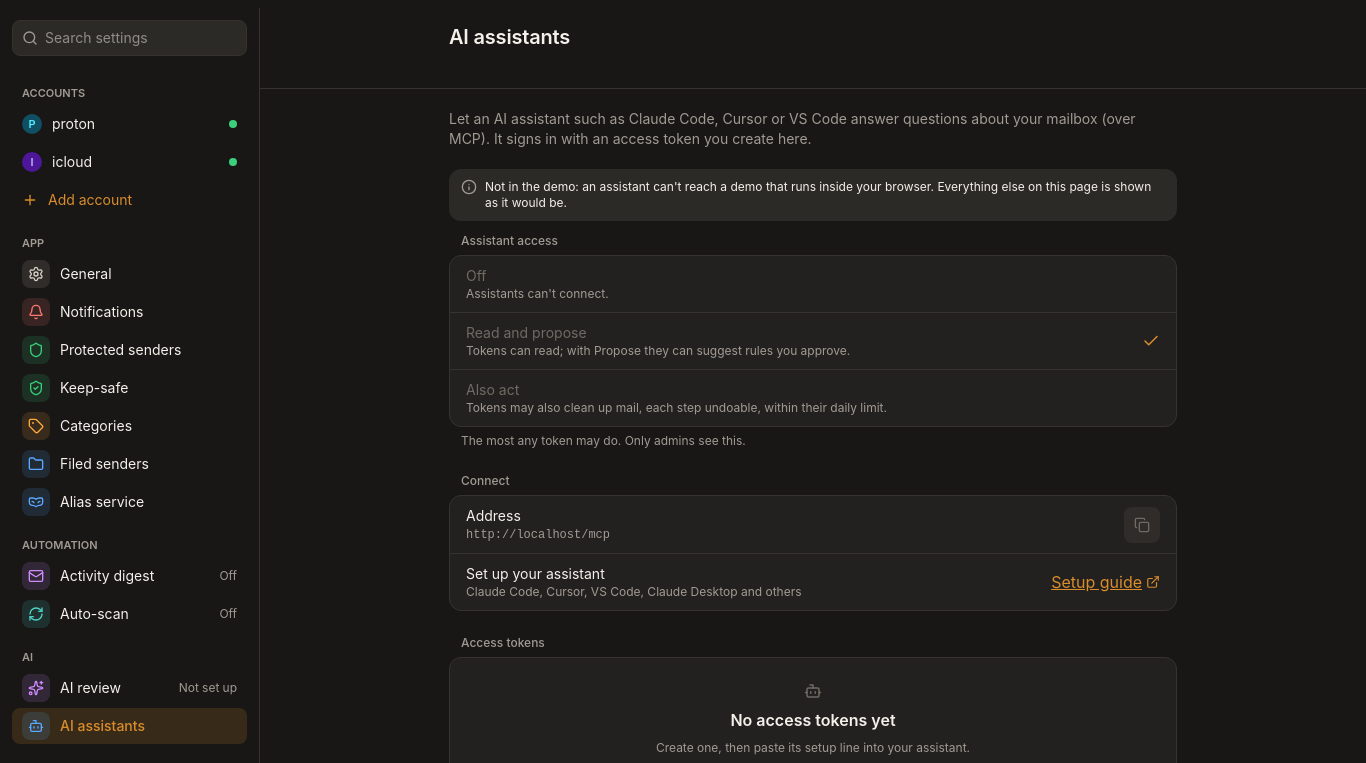
Test: lowering is measured against the saved cap: raise, then lower again asks nothing
Click the radio button labelled "Also act" at [813, 398], box [450, 370, 1176, 426]
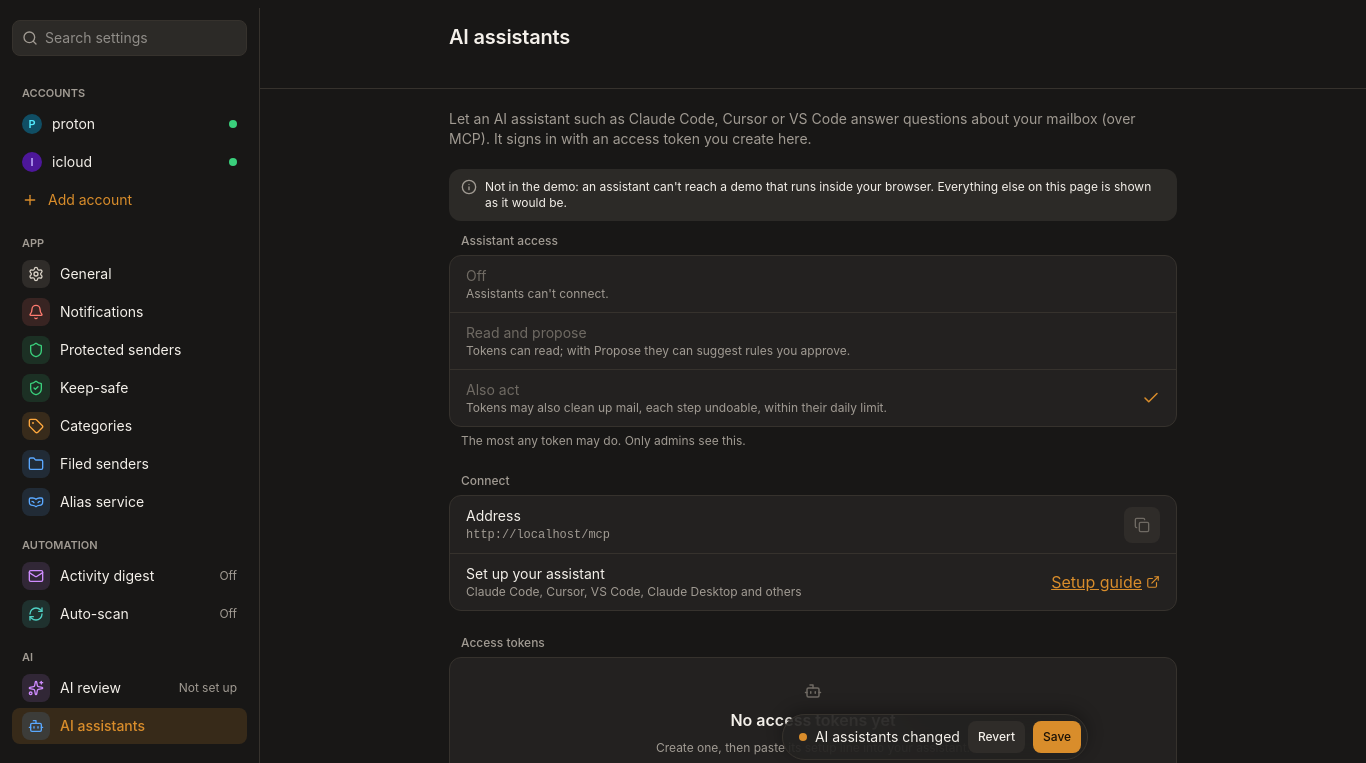
Click the radio button labelled "Read and propose" at [813, 342], box [450, 313, 1176, 370]
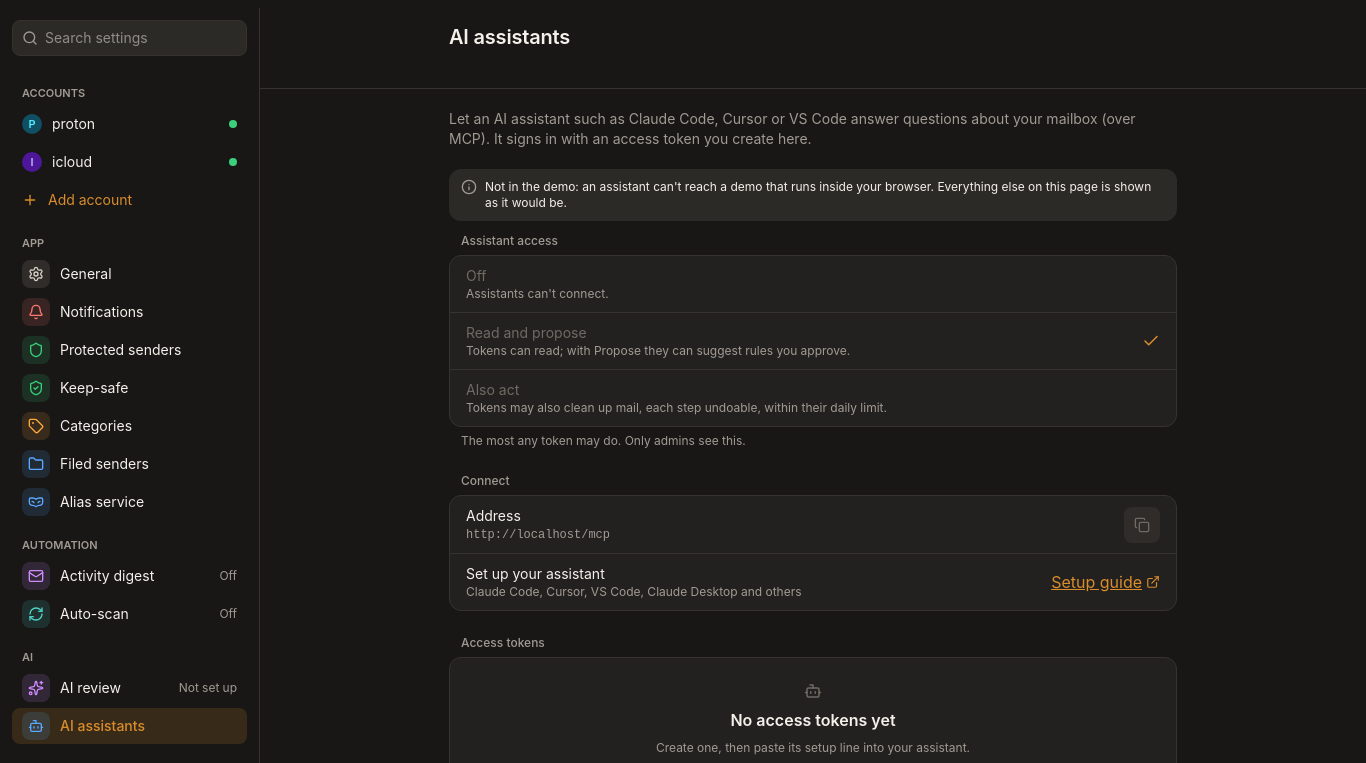
Check: the button "Save" is gone
